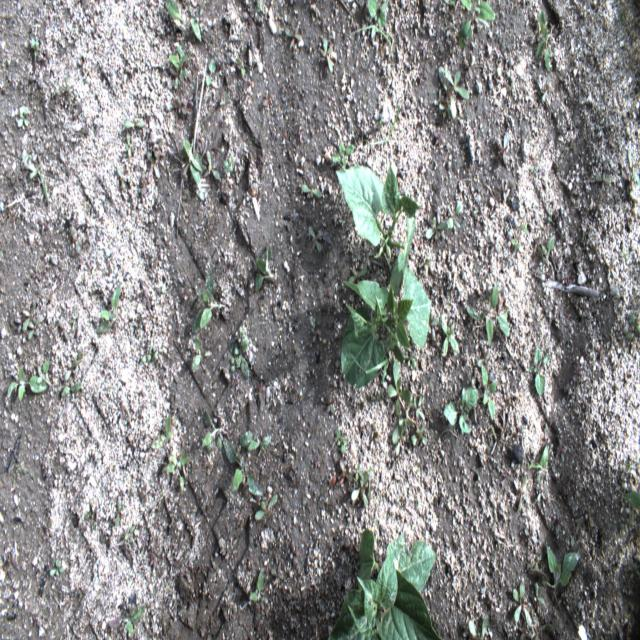crop: (327, 526, 443, 640), (334, 162, 420, 292), (341, 264, 432, 386), (442, 385, 476, 433), (368, 1, 387, 26)
weed: (526, 544, 582, 612), (466, 278, 509, 346), (220, 431, 264, 497), (194, 267, 228, 334), (386, 360, 419, 426), (436, 64, 471, 118), (5, 362, 49, 404), (162, 0, 202, 42), (367, 102, 400, 146), (459, 0, 496, 39), (180, 138, 204, 192), (162, 451, 190, 494), (96, 284, 120, 334), (534, 7, 552, 72), (350, 25, 393, 49), (512, 577, 532, 628), (202, 409, 224, 450), (530, 345, 548, 395), (150, 412, 174, 449), (482, 365, 498, 420), (255, 247, 274, 293), (442, 309, 458, 358), (168, 48, 191, 82), (230, 338, 250, 377), (350, 469, 370, 507), (27, 163, 49, 197), (125, 605, 146, 636), (255, 496, 281, 521), (423, 216, 449, 239), (283, 21, 303, 50), (467, 615, 489, 640), (332, 142, 354, 166), (530, 443, 548, 472), (22, 300, 38, 332), (495, 133, 510, 167), (347, 264, 367, 289), (146, 151, 163, 180), (321, 33, 333, 74), (540, 230, 555, 262), (532, 580, 546, 614), (392, 421, 405, 457), (250, 570, 264, 603), (367, 13, 384, 40), (300, 180, 322, 200), (61, 379, 84, 398), (446, 204, 464, 228), (247, 434, 271, 452), (190, 336, 203, 369), (205, 150, 220, 178), (307, 225, 321, 254), (622, 488, 640, 510), (517, 473, 528, 509), (531, 543, 543, 576), (17, 97, 29, 129), (169, 65, 185, 89), (412, 422, 428, 446), (594, 171, 612, 192), (63, 358, 78, 382), (603, 256, 618, 280), (551, 504, 562, 536), (619, 512, 634, 535), (70, 223, 80, 257), (437, 99, 454, 119), (336, 426, 348, 454), (36, 360, 50, 384), (412, 393, 426, 417), (541, 75, 553, 103), (462, 54, 474, 82), (562, 229, 574, 257), (205, 56, 215, 89), (49, 556, 64, 578), (626, 312, 639, 337), (58, 319, 72, 342), (321, 393, 336, 414), (425, 310, 440, 331), (628, 149, 637, 184), (59, 150, 71, 176), (571, 516, 581, 547), (14, 311, 28, 333), (28, 316, 40, 341), (340, 460, 354, 480), (523, 526, 537, 546), (123, 118, 146, 130), (239, 430, 254, 448), (476, 346, 491, 364), (223, 154, 236, 174), (435, 87, 447, 108), (116, 167, 126, 192), (262, 86, 275, 105), (489, 234, 501, 254), (519, 618, 530, 639), (124, 525, 135, 545), (536, 480, 546, 502), (30, 39, 40, 59), (71, 307, 80, 329), (628, 562, 640, 578), (237, 56, 246, 77), (74, 126, 91, 137), (154, 136, 162, 159), (442, 0, 455, 14), (178, 96, 188, 114), (149, 343, 158, 362), (509, 237, 522, 250), (509, 54, 523, 66), (586, 504, 593, 527), (529, 608, 539, 624), (234, 327, 242, 346), (115, 501, 121, 526), (311, 328, 320, 344), (407, 354, 417, 368), (534, 618, 540, 638), (124, 136, 131, 153), (140, 353, 152, 362), (355, 464, 360, 482), (311, 317, 315, 330), (380, 114, 384, 126)
